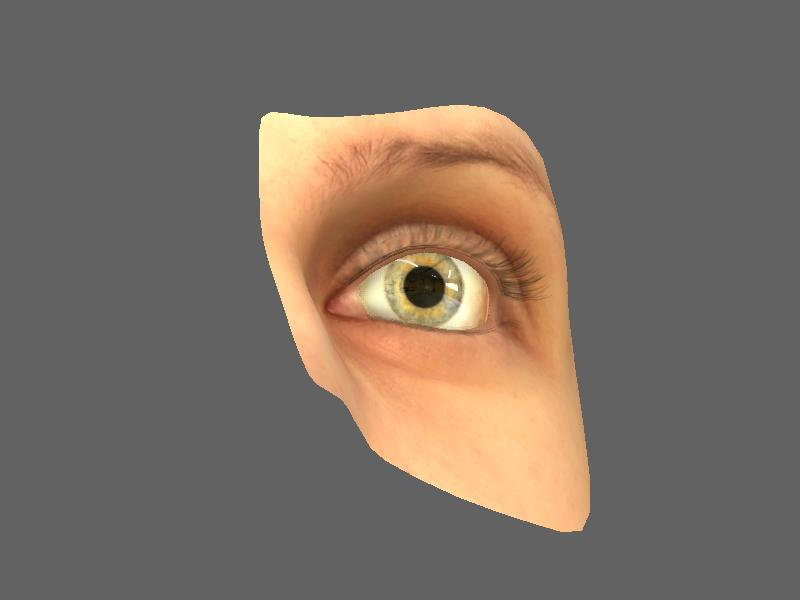iris: (380, 248, 468, 330)
